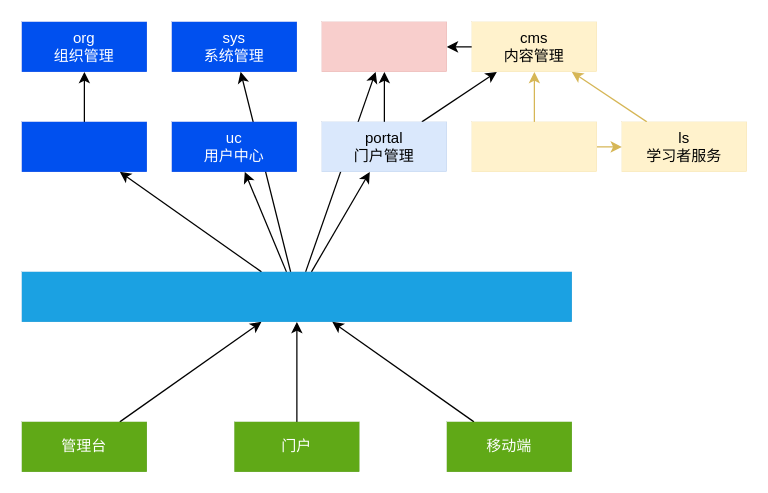
This 768x493 diagram has some shape labels left out. Each missing label, with the box of its shape:
gateway (route/auth/ac): (21, 271, 571, 321)
lms 学习管理: (471, 121, 596, 171)
ms 管理服务: (321, 21, 446, 71)
security 安全管理: (21, 121, 146, 171)
